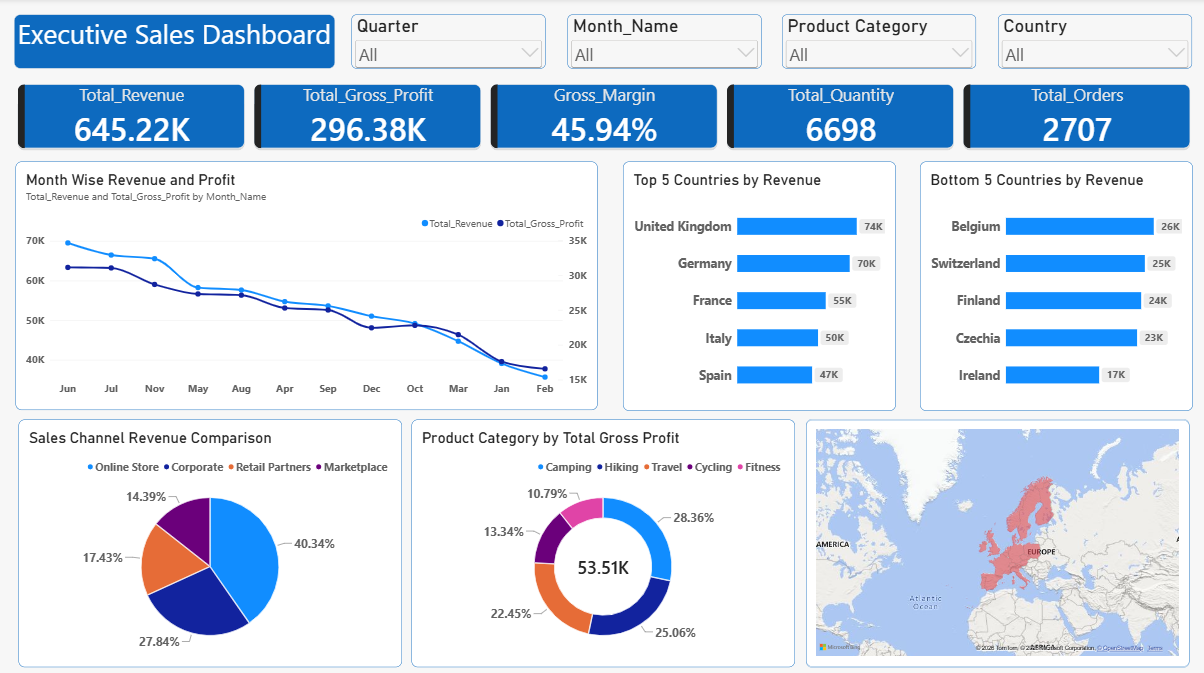

This screenshot's page, from the dashboard's own definition file:
{"tool":"powerbi","page":{"name":"Page 1","canvas":[1920,1080],"ordinal":0},"visuals":[{"type":"slicer","fields":{"Values":["Date_Table.Quarter"]},"box":[560.7,26.2,308.5,85.9],"z":0},{"type":"cardVisual","fields":{"Data":["All_Measures.Total_Revenue","All_Measures.Total_Gross_Profit","All_Measures.Gross_Margin","All_Measures.Total_Quantity","All_Measures.Total_Orders"]},"box":[25.4,133.6,1872.9,109.8],"z":0},{"type":"textbox","box":[23.9,26.2,510.6,85.9],"z":1000},{"type":"slicer","fields":{"Values":["SalesDataTable.Country"]},"box":[1588.3,26.2,308.5,85.9],"z":1000},{"type":"slicer","fields":{"Values":["SalesDataTable.Product Category"]},"box":[1245.7,26.2,308.5,85.9],"z":2000},{"type":"slicer","fields":{"Values":["Date_Table.Month_Name"]},"box":[903.2,26.2,308.5,85.9],"z":3000},{"type":"lineChart","title":"Month Wise Revenue and Profit","fields":{"Category":["Date_Table.Month_Name"],"Y":["All_Measures.Total_Revenue"],"Y2":["All_Measures.Total_Gross_Profit"]},"box":[25.4,258.9,926.2,395.4],"z":3001},{"type":"clusteredBarChart","title":"Top 5 Countries by Revenue","fields":{"Category":["SalesDataTable.Country"],"Y":["All_Measures.Total_Revenue"]},"box":[991.5,260.7,434,396.5],"z":3002},{"type":"clusteredBarChart","title":"Bottom 5 Countries by Revenue","fields":{"Category":["SalesDataTable.Country"],"Y":["All_Measures.Total_Revenue"]},"box":[1464.4,260.7,434,396.5],"z":3003},{"type":"pieChart","title":"Sales Channel Revenue Comparison","fields":{"Category":["SalesDataTable.Sales Channel"],"Y":["All_Measures.Total_Revenue"]},"box":[30.2,670.4,610,393.7],"z":3006},{"type":"filledMap","title":"Bottom 5 Countries by Revenue","fields":{"Category":["SalesDataTable.Country"]},"box":[1283.7,670.4,610,393.7],"z":3007},{"type":"donutChart","title":"Product Category by Total Gross Profit","fields":{"Category":["SalesDataTable.Product Category"],"Y":["All_Measures.Total_Gross_Profit"]},"box":[656.9,670.4,610,393.7],"z":3008}]}

Visuals, with their boxes in screenshot pixels (x1, y1, x2, y2), scaled from the page's 1920x1080 canvas onto the 1204x673 screenshot:
slicer - Date_Table.Quarter: 352:16:545:70
cardVisual - All_Measures.Total_Revenue x All_Measures.Total_Gross_Profit: 16:83:1190:152
textbox: 15:16:335:70
slicer - SalesDataTable.Country: 996:16:1189:70
slicer - SalesDataTable.Product Category: 781:16:975:70
slicer - Date_Table.Month_Name: 566:16:760:70
"Month Wise Revenue and Profit" lineChart: 16:161:597:408
"Top 5 Countries by Revenue" clusteredBarChart: 622:162:894:410
"Bottom 5 Countries by Revenue" clusteredBarChart: 918:162:1190:410
"Sales Channel Revenue Comparison" pieChart: 19:418:401:663
"Bottom 5 Countries by Revenue" filledMap: 805:418:1188:663
"Product Category by Total Gross Profit" donutChart: 412:418:794:663
